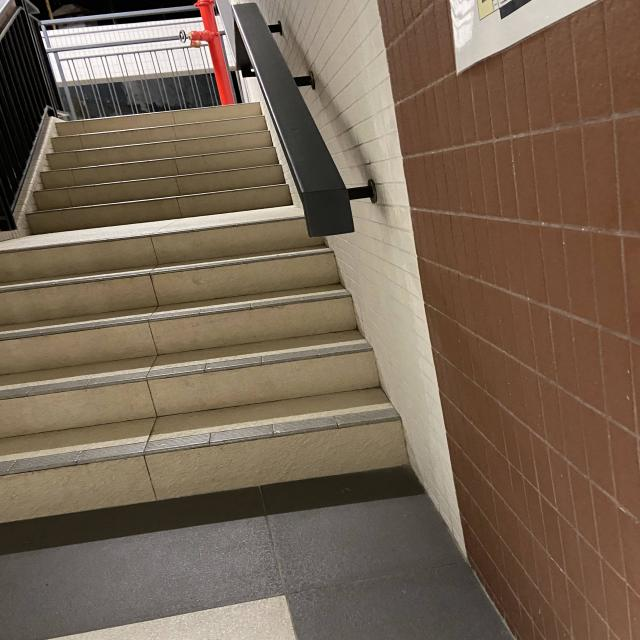Stairs: (0, 213, 415, 526), (22, 101, 308, 235)
